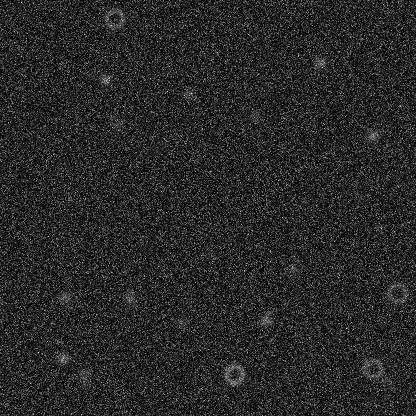Ring: (360, 356, 384, 380), (102, 6, 126, 30), (222, 362, 246, 386), (385, 281, 409, 305)
Spot: (371, 221, 387, 237), (201, 246, 217, 262), (369, 174, 385, 190), (257, 312, 273, 328), (181, 86, 197, 102), (246, 108, 262, 124), (97, 71, 113, 87), (174, 314, 190, 330), (57, 288, 73, 304), (388, 140, 404, 156), (285, 261, 301, 277), (122, 291, 138, 307), (313, 55, 329, 71), (158, 134, 174, 150), (379, 373, 395, 389), (110, 115, 126, 131), (54, 350, 70, 366), (78, 377, 94, 393), (363, 128, 379, 144), (76, 365, 92, 381)
